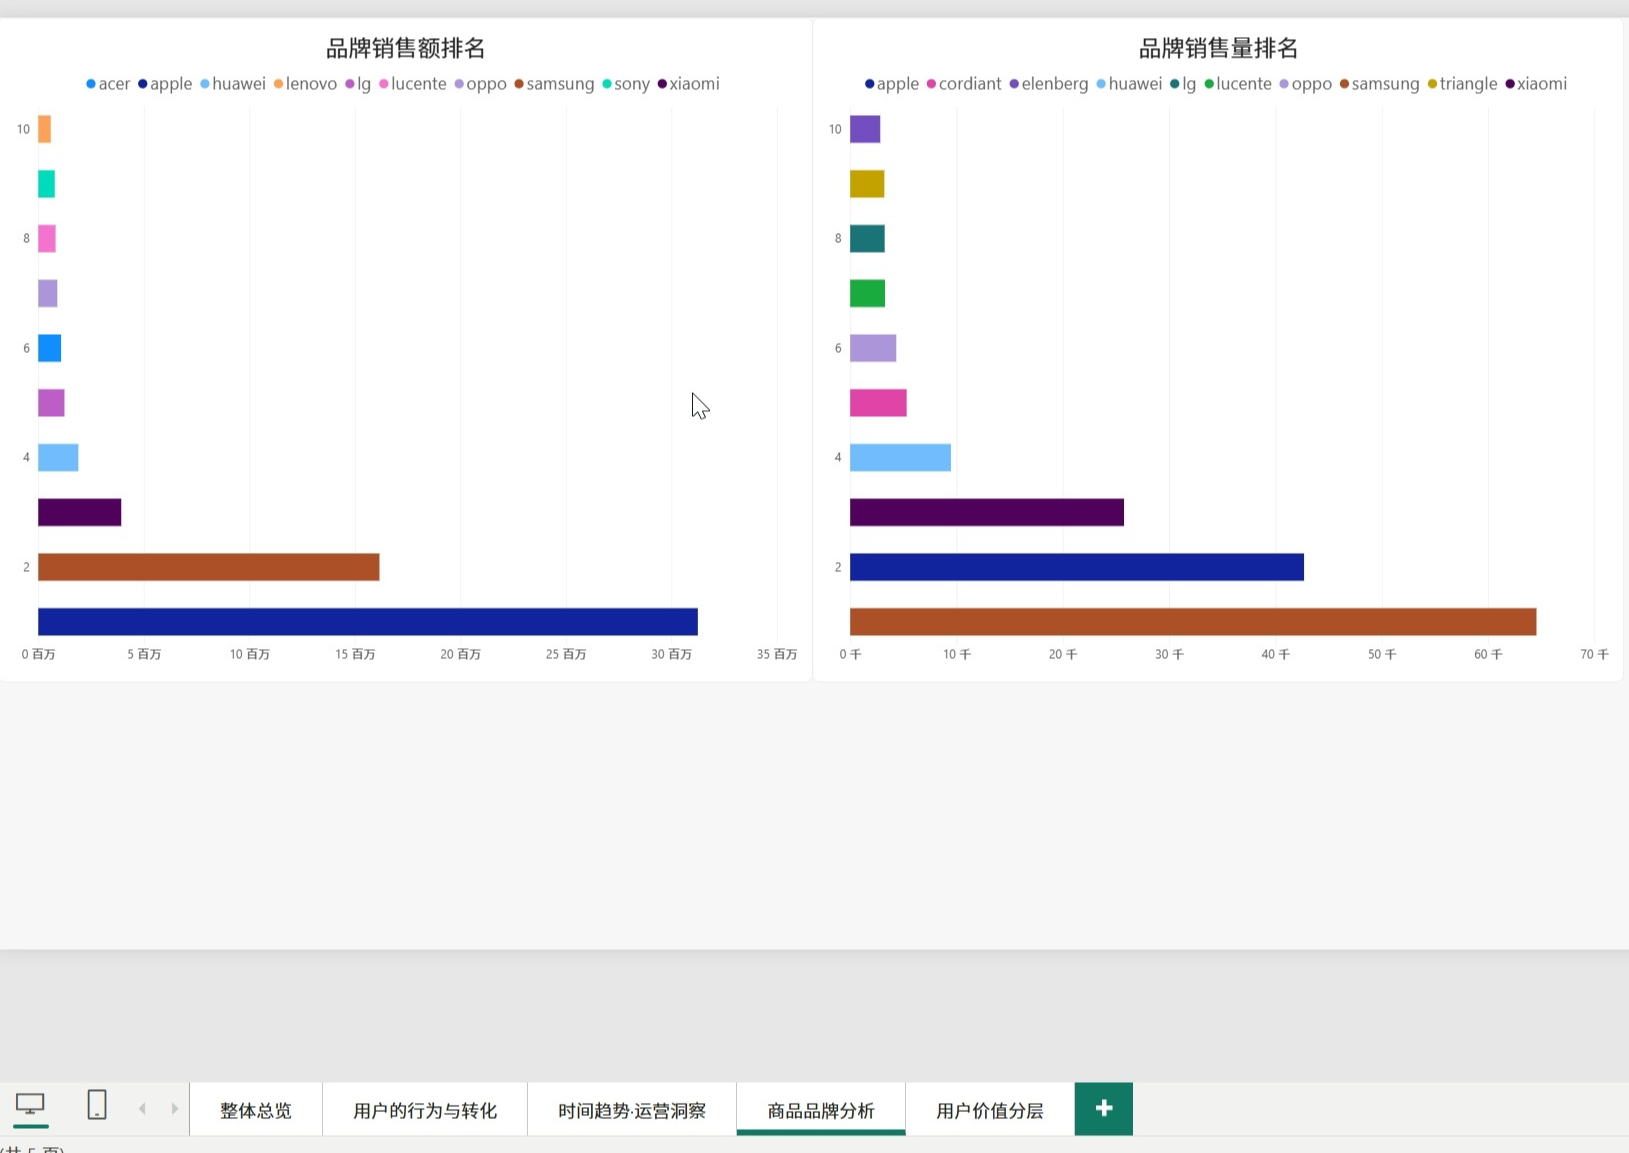

This screenshot's page, from the dashboard's own definition file:
{"tool":"powerbi","page":{"name":"商品品牌分析","canvas":[1920,1080],"ordinal":3},"visuals":[{"type":"barChart","title":"品牌销售额排名","fields":{"Category":["商品品牌销售额TOP20.排名"],"Series":["商品品牌销售额TOP20.品牌名"],"Y":["Sum(商品品牌销售额TOP20.销售额)"]},"box":[0,0,943.8,770],"z":0},{"type":"barChart","title":"品牌销售量排名","fields":{"Category":["商品品牌销售量TOP20.排名"],"Series":["商品品牌销售量TOP20.品牌名"],"Y":["Sum(商品品牌销售量TOP20.购买数量)"]},"box":[943.8,0,940.3,770],"z":1}]}

Visuals, with their boxes on the page's 1920x1080 design canvas (x1, y1, x2, y2). These are canvas units, not pixel positions in the 1629x1153 screenshot, which may show the page scaled, cropped or inside an application window:
"品牌销售额排名" barChart: 0 0 944 770
"品牌销售量排名" barChart: 944 0 1884 770
